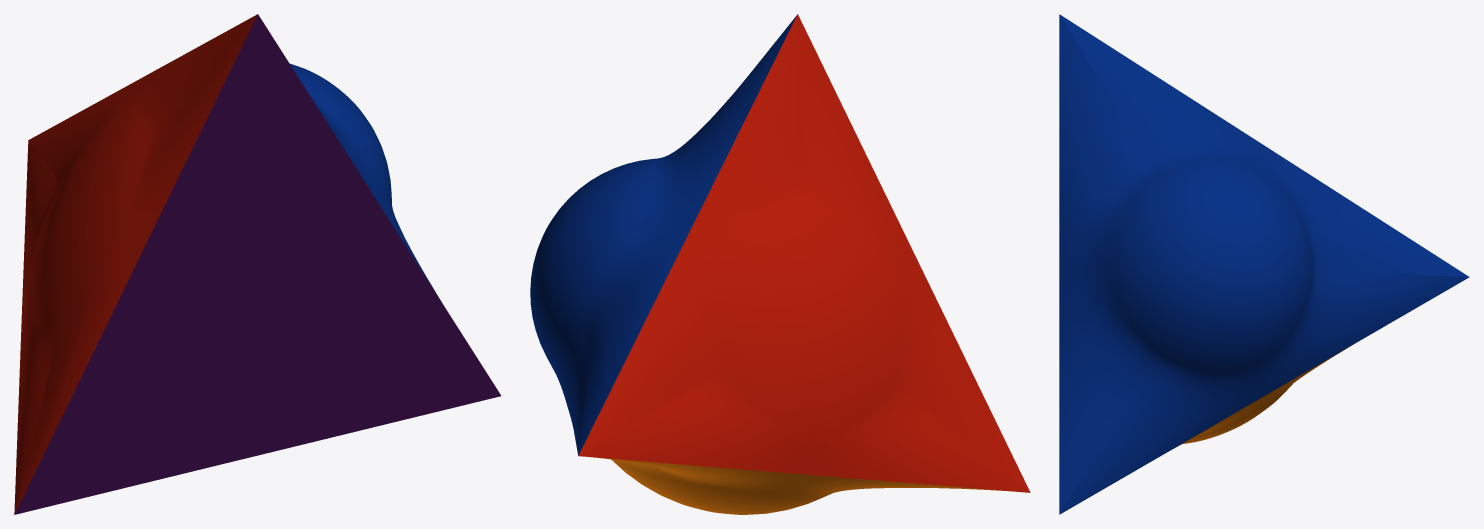
File: tetrahedron.obj
The picture shows the model from 3 angles, left to right: view 1: azimuth 30°, elevation 25°; view 2: azimuth 150°, elevation 25°; view 3: azimuth 270°, elevation 25°; orthographic projection. The views are drawn at different scales.
Parts seen in each view (by area): view 1: mesh10, mesh7, mesh5, mesh8, mesh6, mesh1, mesh0; view 2: mesh5, mesh8, mesh6, mesh7, mesh3, mesh0, mesh15, mesh14, mesh2; view 3: mesh0, mesh1, mesh2, mesh3, mesh16.
Boxes of the visible parts, x1,y1,x2,y2 form: mesh10: (14,14,501,514); mesh7: (14,15,257,513); mesh5: (28,108,142,325); mesh8: (28,14,257,185); mesh6: (14,140,59,514); mesh1: (307,91,441,301); mesh0: (290,63,391,192); mesh5: (716,207,905,429); mesh8: (578,14,809,455); mesh6: (578,368,1030,492); mesh7: (798,15,1030,492); mesh3: (575,14,797,455); mesh0: (530,159,654,355); mesh15: (594,457,1008,498); mesh14: (611,459,824,514); mesh2: (546,320,587,455); mesh0: (1114,160,1311,368); mesh1: (1059,15,1162,513); mesh2: (1059,268,1469,514); mesh3: (1059,14,1468,276); mesh16: (1174,346,1350,448).
Size of the model in its own units: 0.1 by 0.0911 by 0.0816.
